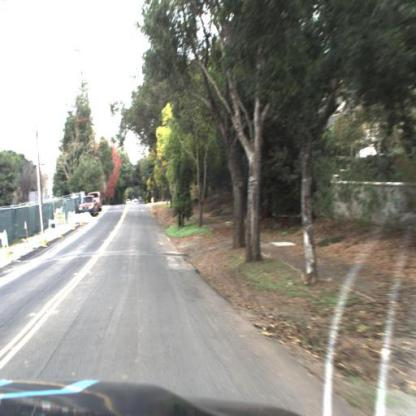car: (76, 193, 97, 218)
